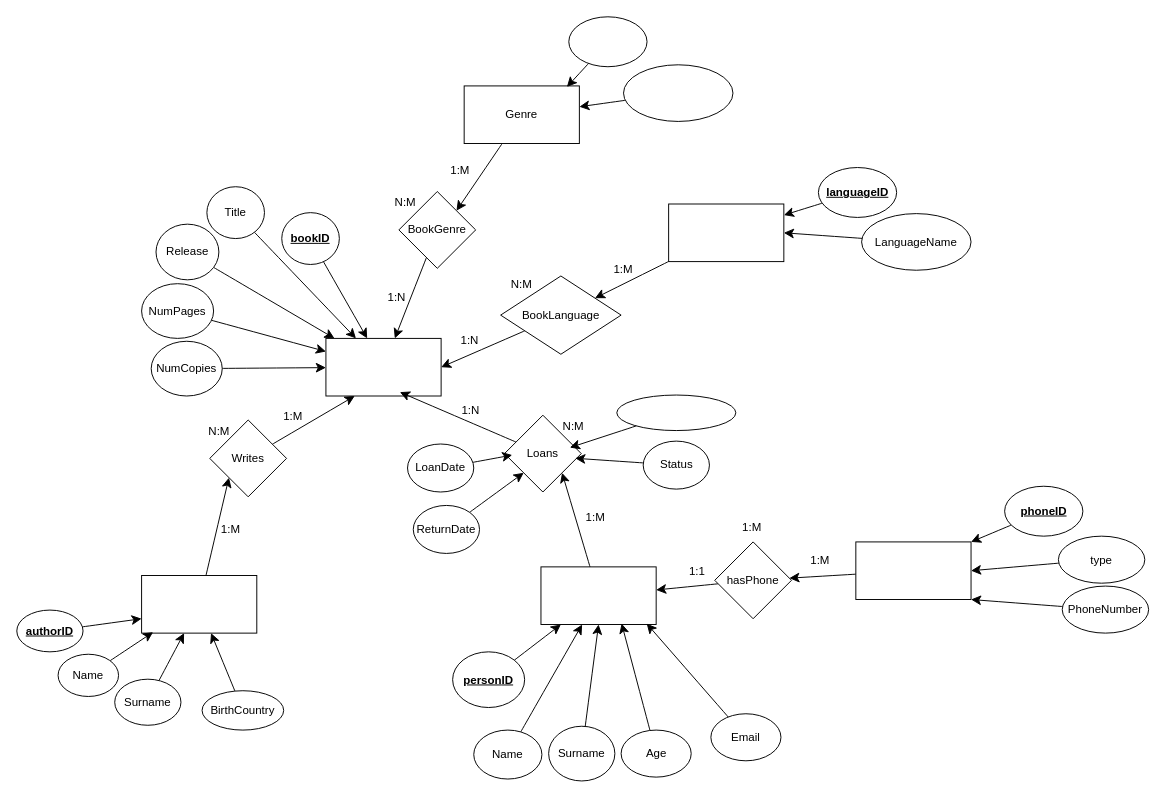
The diagram is 1165 pixels wide and 798 high, and some of its shapes have lost their labels. The shapes that lost their labels are listed below. From the top down, each one's centre as x and y in pixels, then its label:
At point 607,41: "genreID".
At point 678,92: "GenreName".
At point 726,232: "Language".
At point 383,366: "Book".
At point 676,412: "ExpectedReturnDate".
At point 913,570: "Phone".
At point 199,604: "Author".
At point 598,595: "Person".
